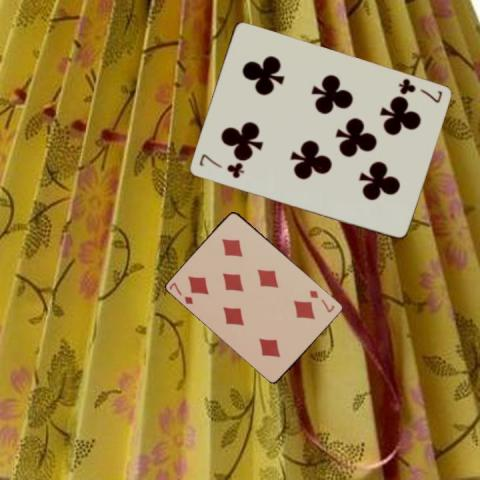7c: (395, 75, 444, 105), (195, 151, 245, 180)
7d: (307, 287, 336, 314), (166, 280, 195, 306)
